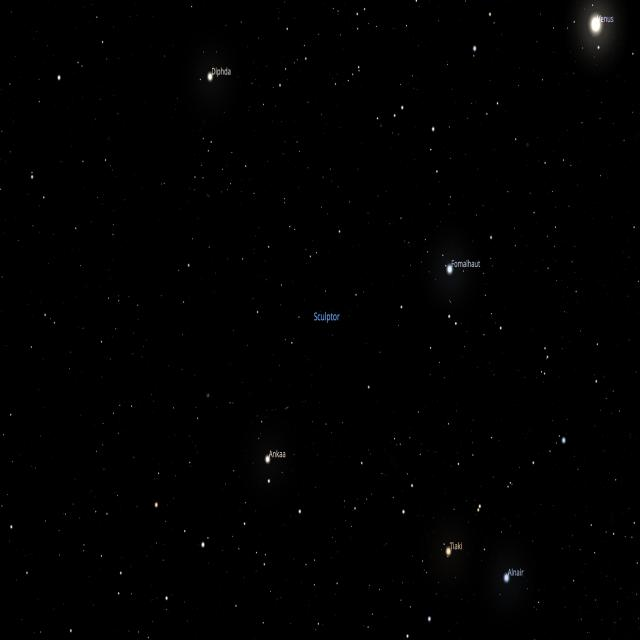Sculptor: (182, 260, 406, 392)
